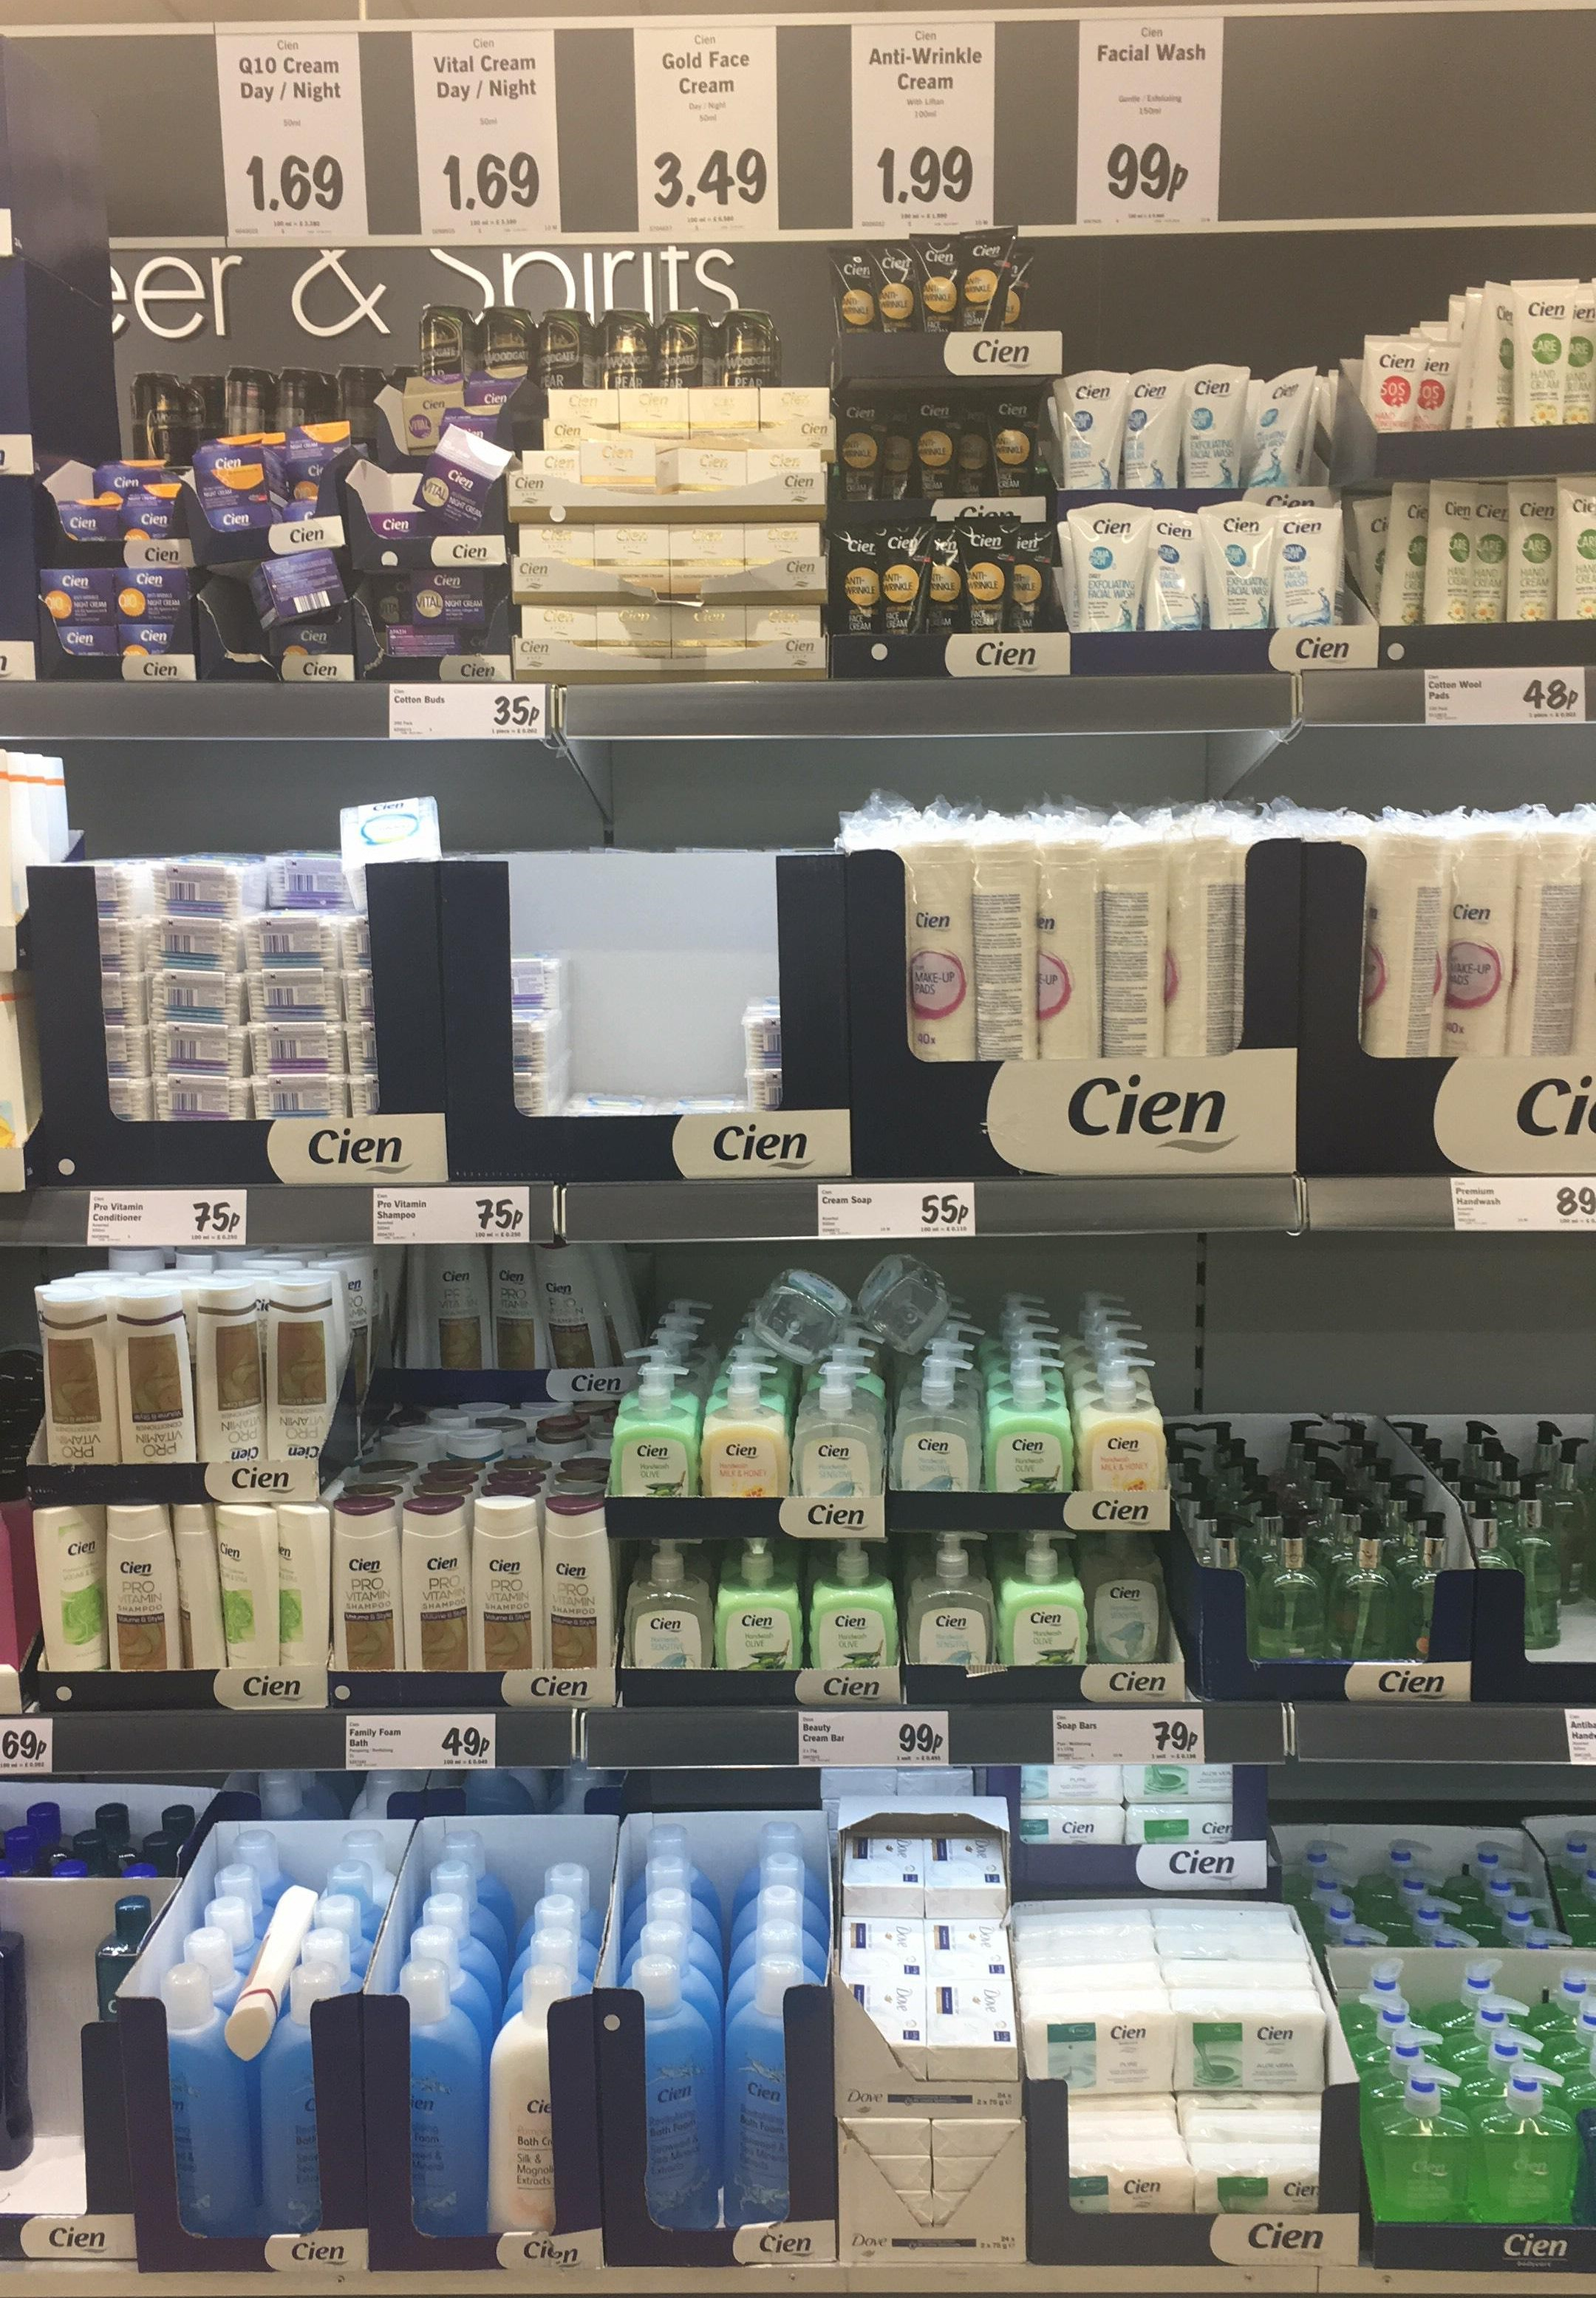empty: (574, 889, 742, 1111)
misalignment: (203, 407, 519, 664), (494, 1977, 587, 2237), (220, 1886, 316, 2062)
